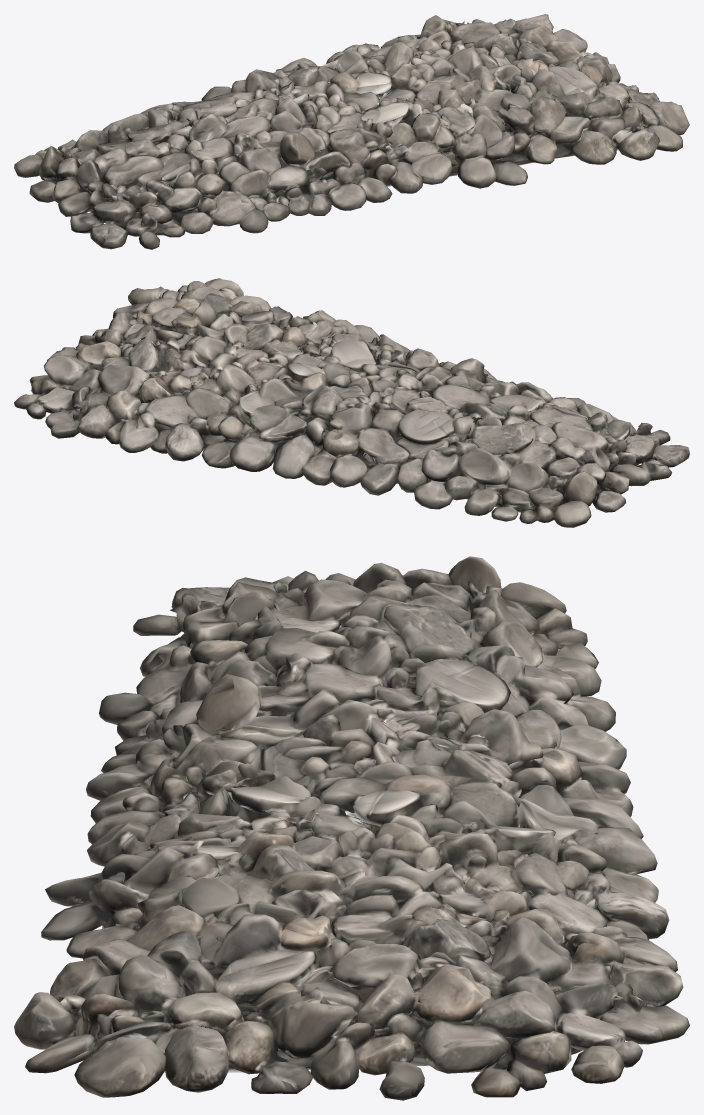
Rendered from bank_a.glb.
The picture shows the model from 3 angles, top to bottom: view 1: azimuth 30°, elevation 25°; view 2: azimuth 150°, elevation 25°; view 3: azimuth 270°, elevation 25°; orthographic projection. The views are drawn at different scales.
Visible parts, largest first — view 1: bank_a; view 2: bank_a; view 3: bank_a.
Part boxes in pixels (x1,y1,x2,y2): bank_a: [14, 14, 689, 249]; bank_a: [14, 278, 689, 527]; bank_a: [14, 556, 689, 1100].
Bounding box in the file's own units: 20.99 × 2.08 × 11.78.
1 material, 1 textured.
